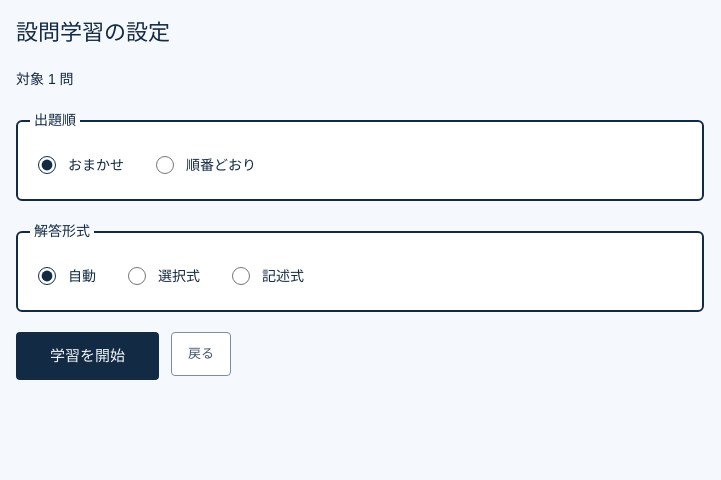
Test: StructuredQuestionStudyPage › わからないは空の回答として記録され不正解になる
Click the radio button labelled "選択式". click: (137, 276)
box: [128, 267, 146, 285]
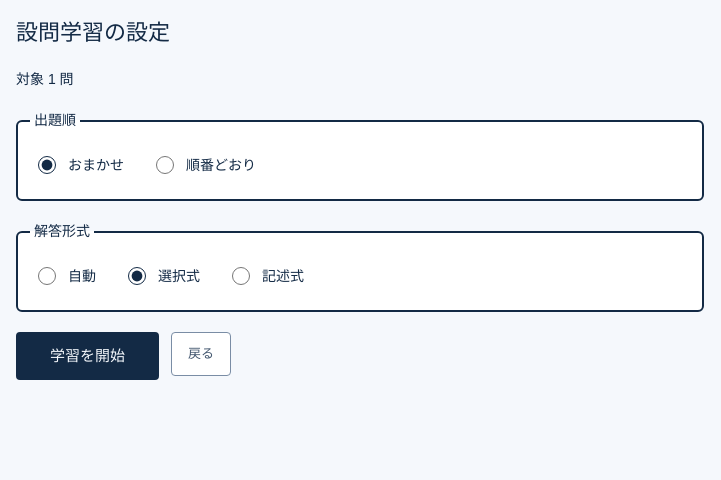
Click the button "学習を開始". click: (88, 356)
box: [16, 332, 159, 380]
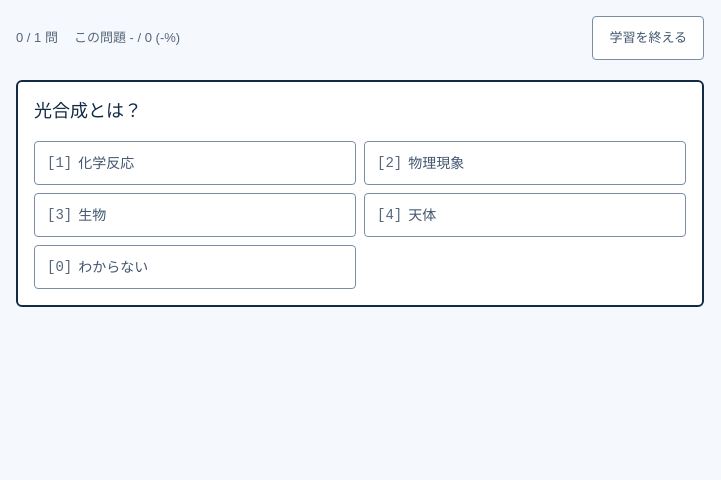
Click the button "[0] わからない". click: (113, 266)
box: [34, 245, 356, 289]
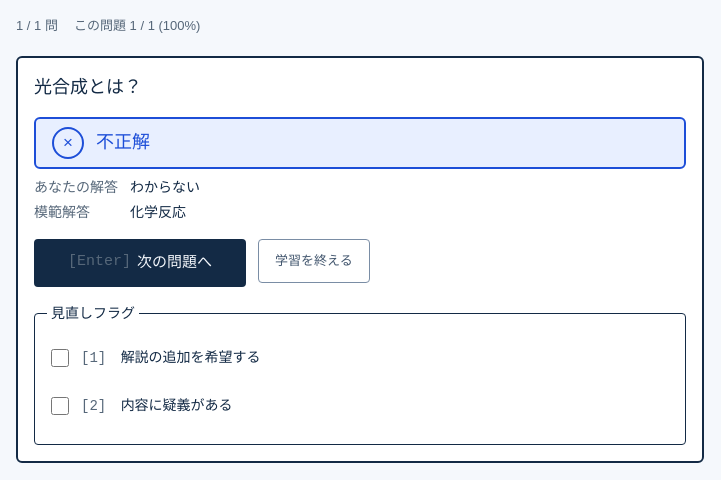
Expected: the message shows "不正解", [96, 132, 150, 152]
